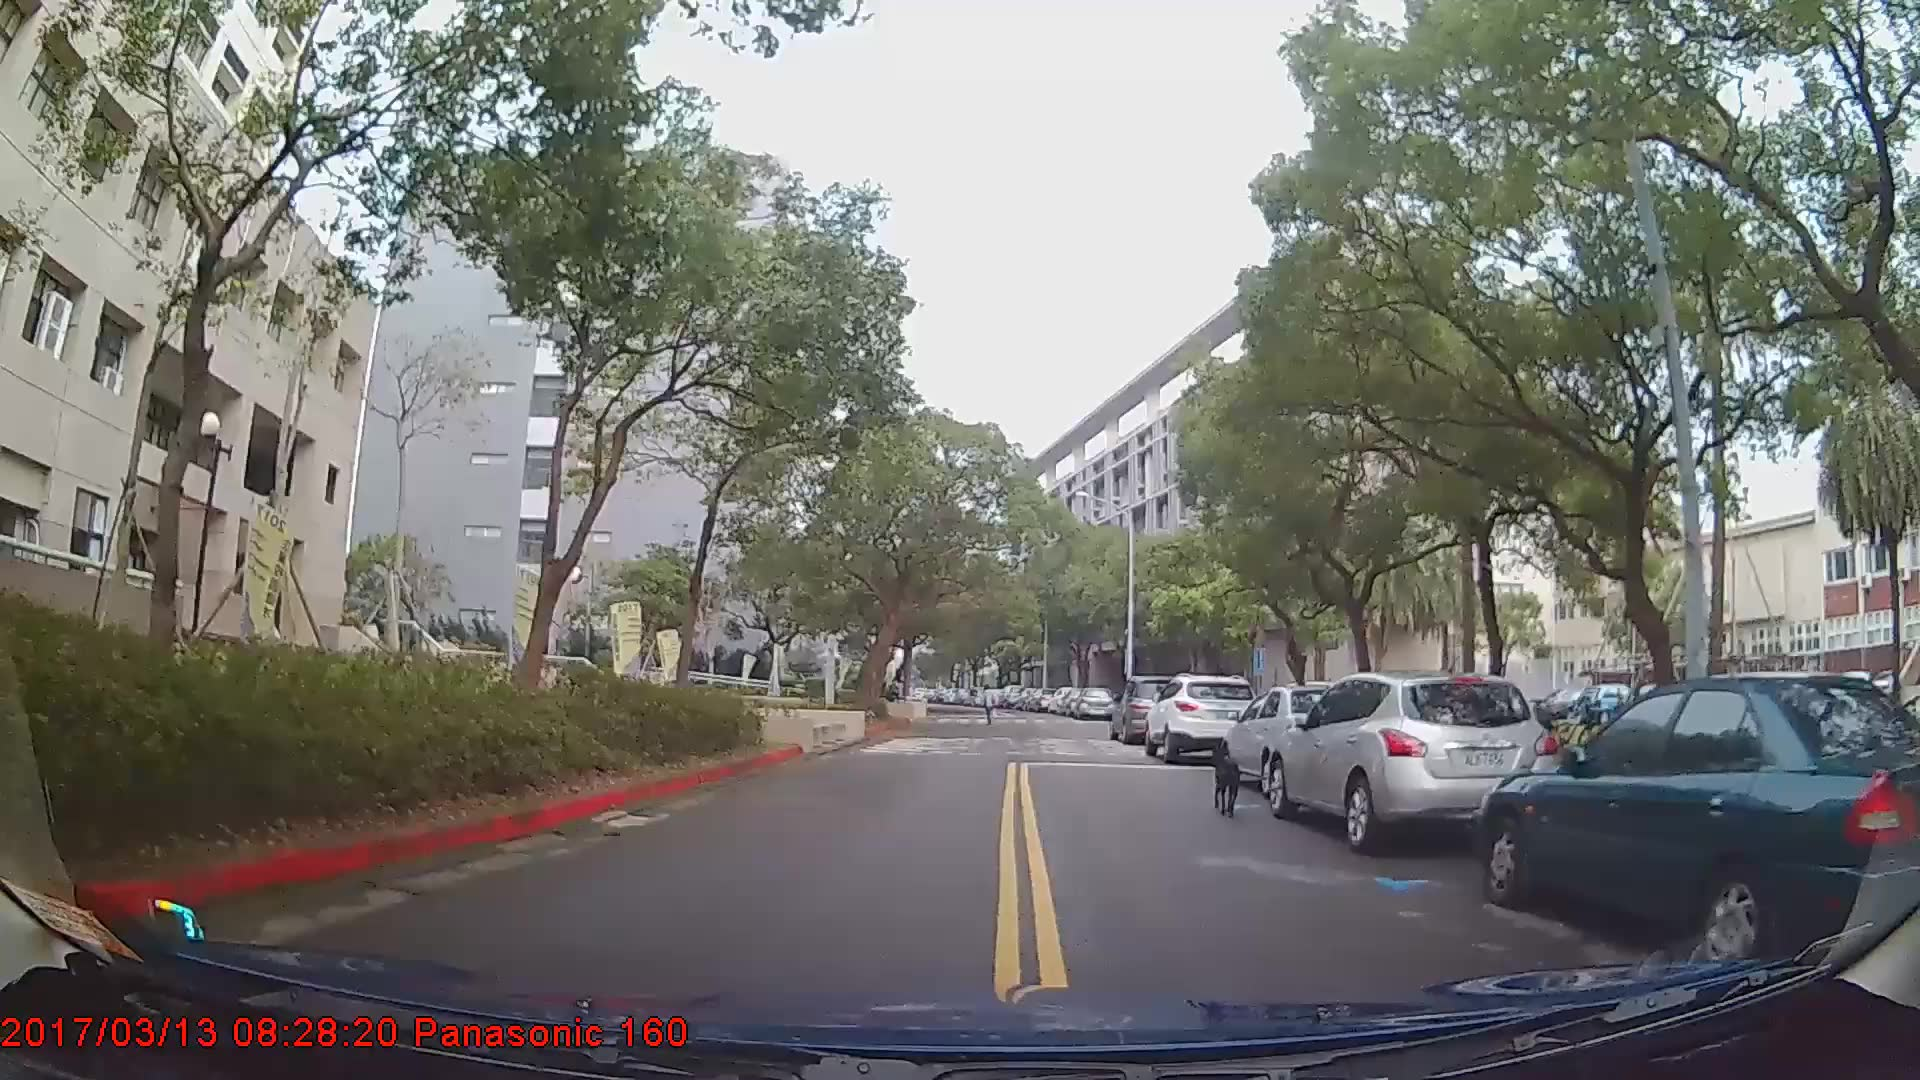pedestrian: (980, 686, 1000, 729)
vehicle: (1482, 675, 1920, 964), (1265, 670, 1563, 852), (1218, 680, 1372, 798), (1145, 670, 1263, 761), (1109, 675, 1198, 744), (1072, 682, 1113, 716)
